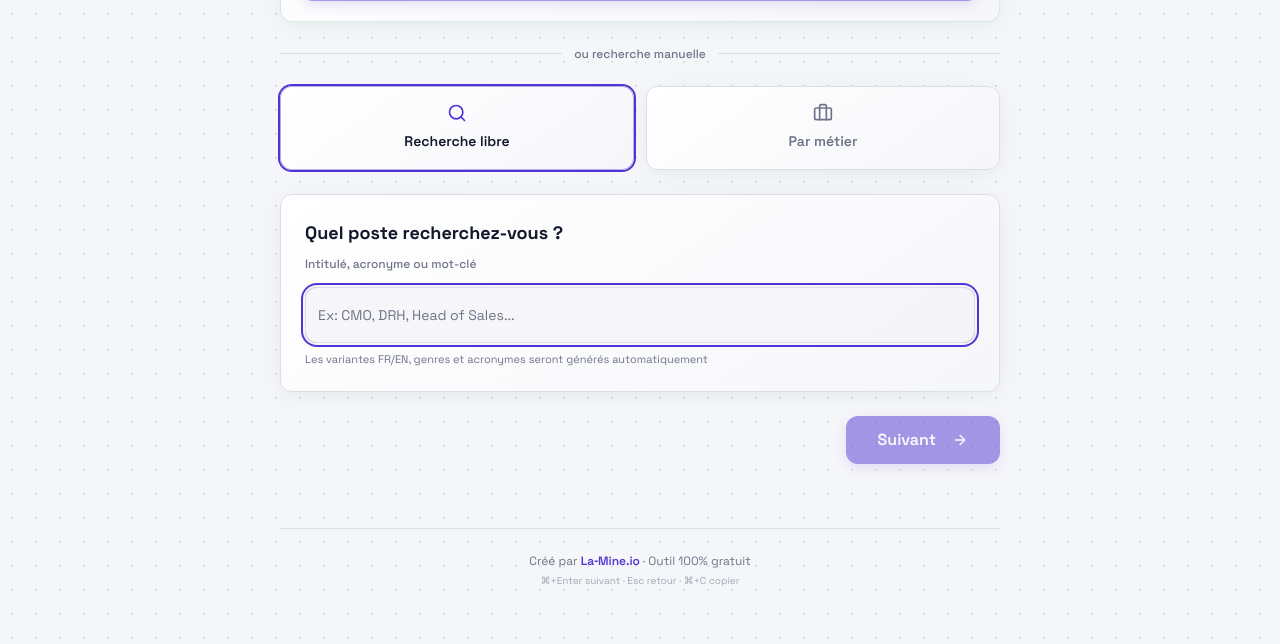
BooleanGenerator › should reset to step 1 when clicking Nouveau
The width and height of the screenshot is (1280, 644).
(page scrolled)
// Navigate to step 3
Type "DRH" into the field with placeholder "Ex: CMO, DRH, Head of Sales...".
click(640, 314); type("DRH")  # box [305, 286, 975, 342]
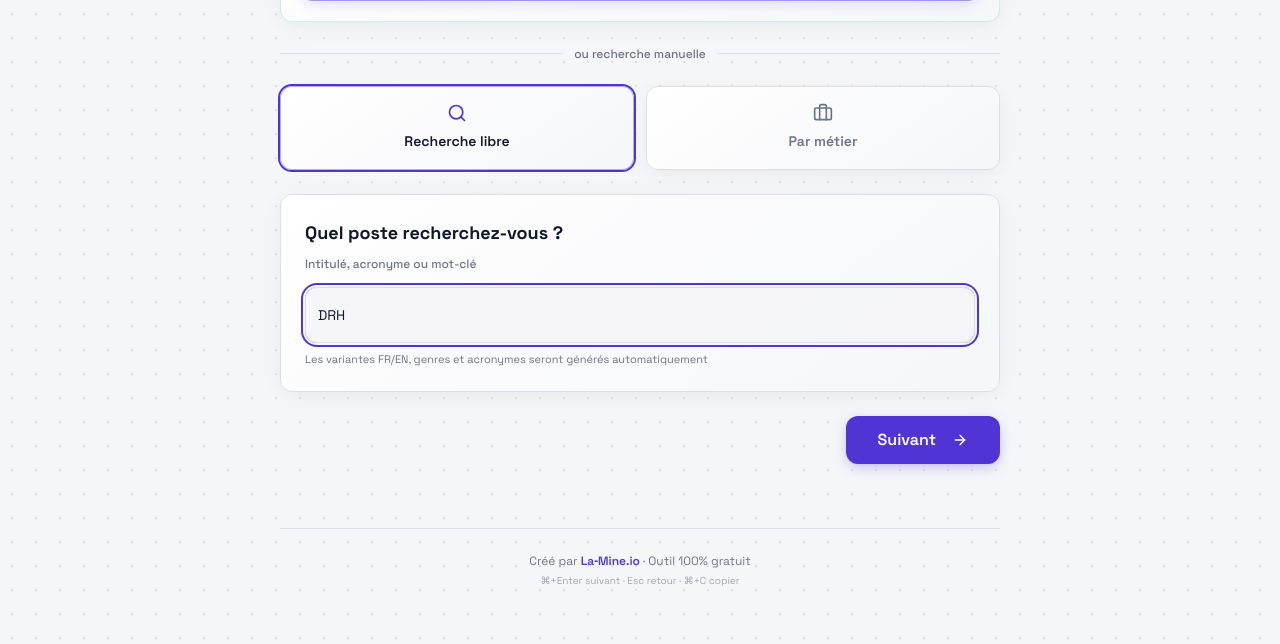
Click the button "Suivant".
click(923, 440)  # box [846, 416, 1000, 464]
(page scrolled)
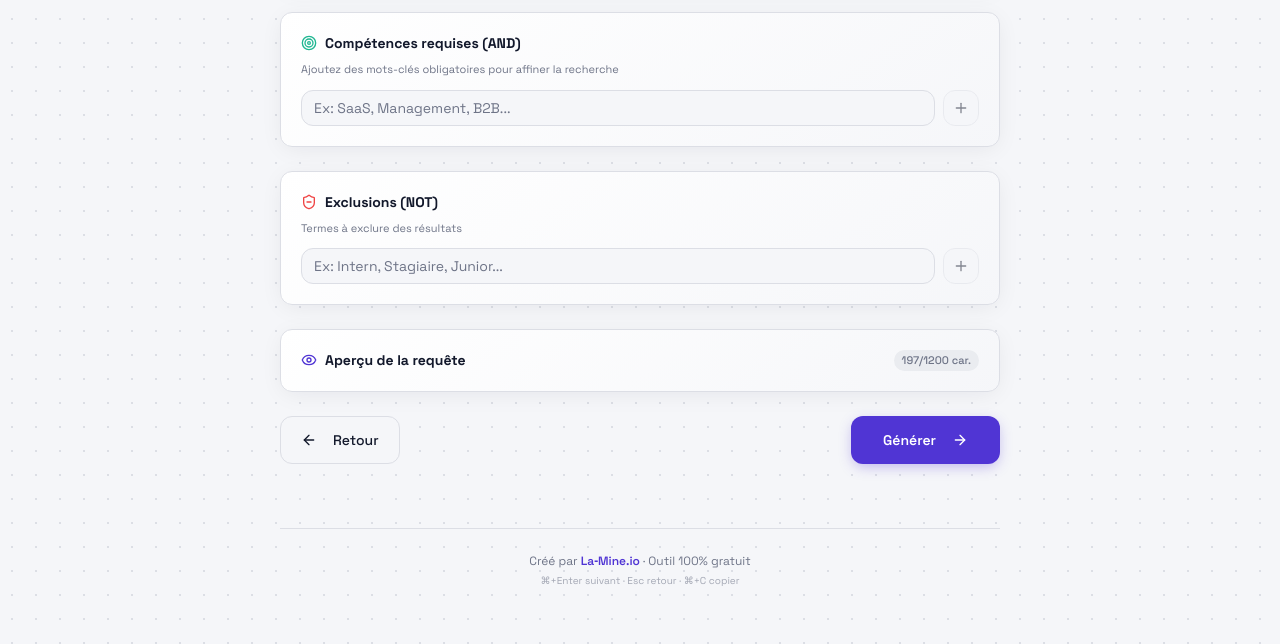
Check: the button "Générer" is shown
Click the button "Générer".
click(926, 440)  # box [851, 416, 1000, 464]
(page scrolled)
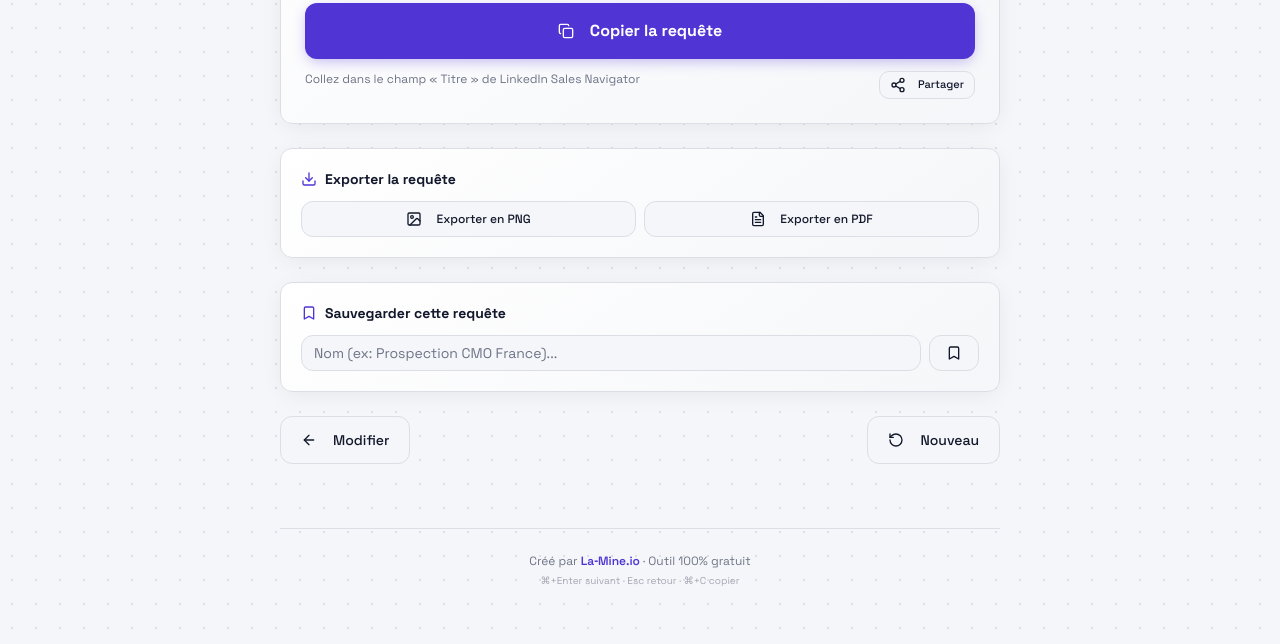
Check: the button "Nouveau" is shown
Click the button "Nouveau".
click(934, 440)  # box [867, 416, 1000, 464]
(page scrolled)
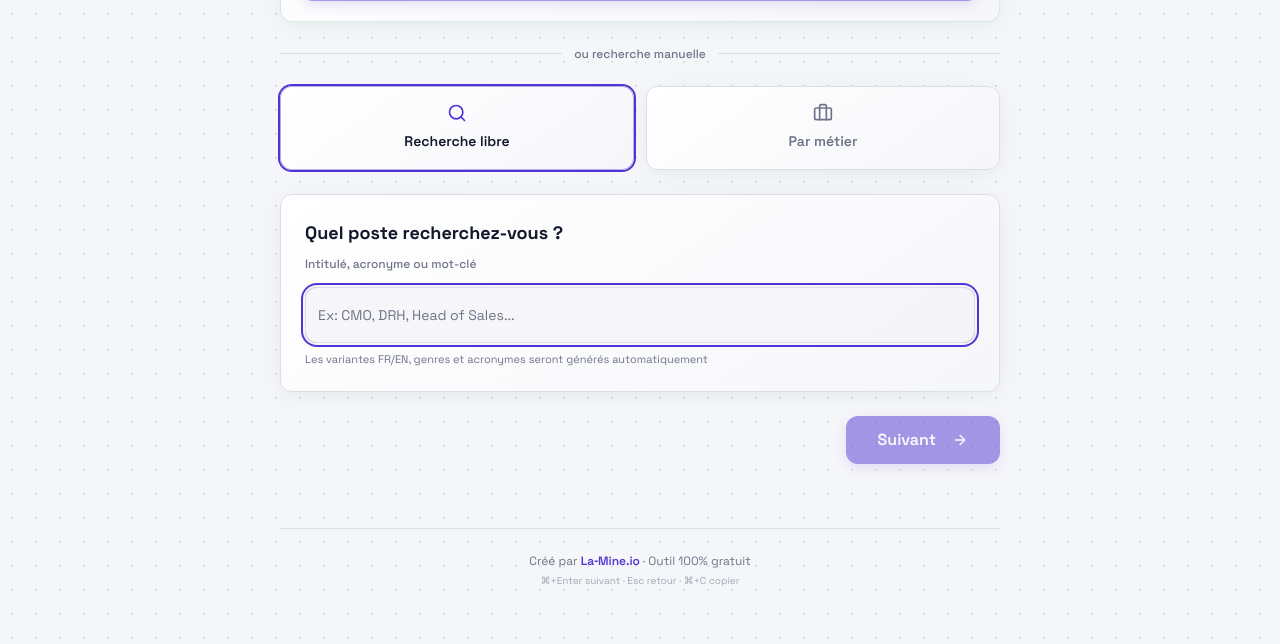
Check: the text "Recherche libre" is shown, box [404, 132, 510, 150]
Check: the field with placeholder "Ex: CMO, DRH, Head of Sales..." is empty, box [305, 286, 975, 342]
